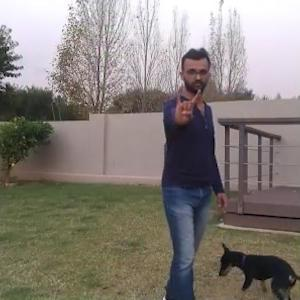takeoff-hand: (163, 77, 206, 129)
